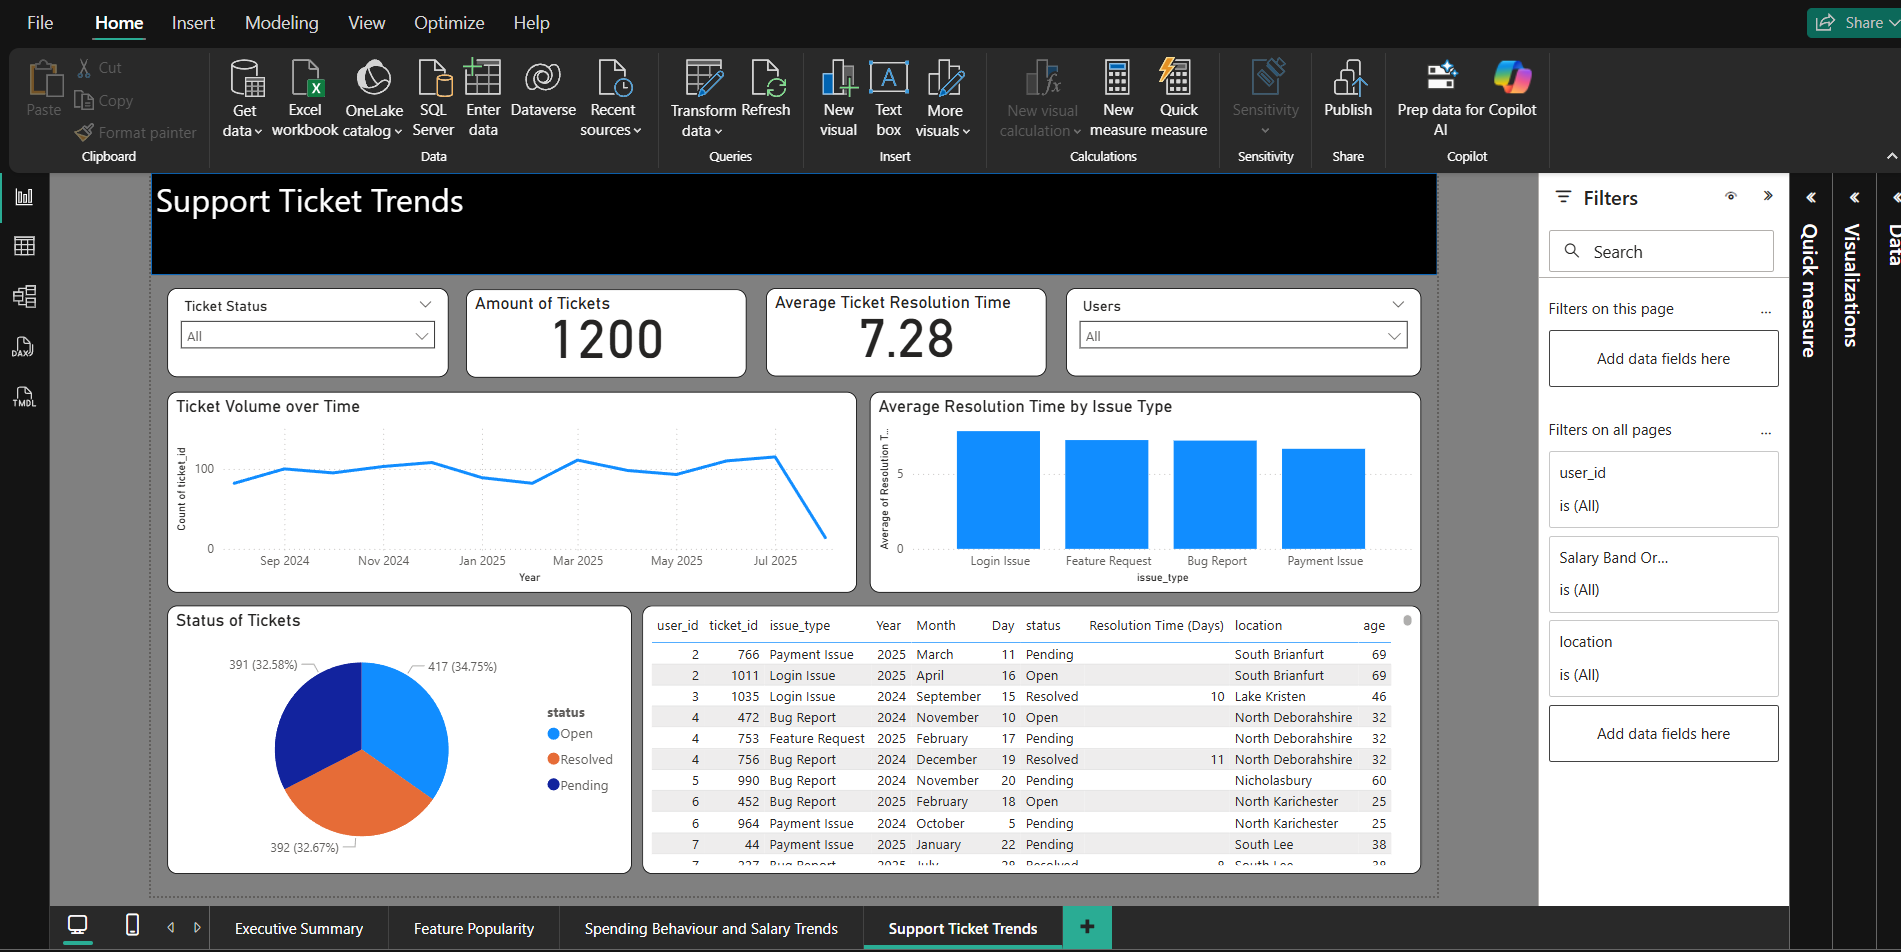

This screenshot's page, from the dashboard's own definition file:
{"tool":"powerbi","page":{"name":"Support Ticket Trends","canvas":[1280,720],"ordinal":3},"visuals":[{"type":"clusteredColumnChart","title":"Average Resolution Time by Issue Type","fields":{"Y":["Avg(support_tickets (1).Resolution Time (Days))"],"Category":["support_tickets (1).issue_type"]},"box":[714.9,218.2,548.9,200.3],"z":0},{"type":"lineChart","title":"Ticket Volume over Time","fields":{"Y":["Count(support_tickets (1).ticket_id)"],"Category":["support_tickets (1).created_at.Variation.Date Hierarchy.Year","support_tickets (1).created_at.Variation.Date Hierarchy.Month"]},"box":[16.5,218.2,686.1,200.3],"z":1000},{"type":"tableEx","fields":{"Values":["support_tickets (1).user_id","support_tickets (1).ticket_id","support_tickets (1).issue_type","support_tickets (1).created_at.Variation.Date Hierarchy.Year","support_tickets (1).created_at.Variation.Date Hierarchy.Month","support_tickets (1).created_at.Variation.Date Hierarchy.Day","support_tickets (1).status","support_tickets (1).Resolution Time (Days)","users.location","users.age"]},"box":[488.5,430.9,775.3,267.6],"z":2000},{"type":"pieChart","title":"Status of Tickets","fields":{"Category":["support_tickets (1).status"],"Y":["CountNonNull(support_tickets (1).ticket_id)"]},"box":[16.5,430.9,462.4,267.6],"z":3000},{"type":"shape","box":[0,0,1280.3,101.5],"z":4000},{"type":"slicer","title":"Status","fields":{"Values":["support_tickets (1).status"]},"box":[16.5,113.9,279.9,89.2],"z":5000},{"type":"card","title":"Amount of Tickets","fields":{"Values":["Count(support_tickets (1).ticket_id)"]},"box":[313.6,115.5,279.4,88.4],"z":6000},{"type":"card","title":"Average Ticket Resolution Time","fields":{"Values":["Avg(support_tickets (1).Resolution Time (Days))"]},"box":[611.5,114,279.4,88.4],"z":7000},{"type":"slicer","title":"Average Ticket Resolution Time","fields":{"Values":["users.user_id"]},"box":[910.8,114,353.5,88.4],"z":8000},{"type":"textbox","box":[0,0,410.5,101.2],"z":9000}]}

Visuals, with their boxes on the page's 1280x720 design canvas (x1, y1, x2, y2). These are canvas units, not pixel positions in the 1901x952 screenshot, which may show the page scaled, cropped or inside an application window:
"Average Resolution Time by Issue Type" clusteredColumnChart: [715, 218, 1264, 418]
"Ticket Volume over Time" lineChart: [16, 218, 703, 418]
tableEx - support_tickets (1).user_id x support_tickets (1).ticket_id: [488, 431, 1264, 698]
"Status of Tickets" pieChart: [16, 431, 479, 698]
shape: [0, 0, 1280, 102]
"Status" slicer: [16, 114, 296, 203]
"Amount of Tickets" card: [314, 116, 593, 204]
"Average Ticket Resolution Time" card: [612, 114, 891, 202]
"Average Ticket Resolution Time" slicer: [911, 114, 1264, 202]
textbox: [0, 0, 410, 101]
